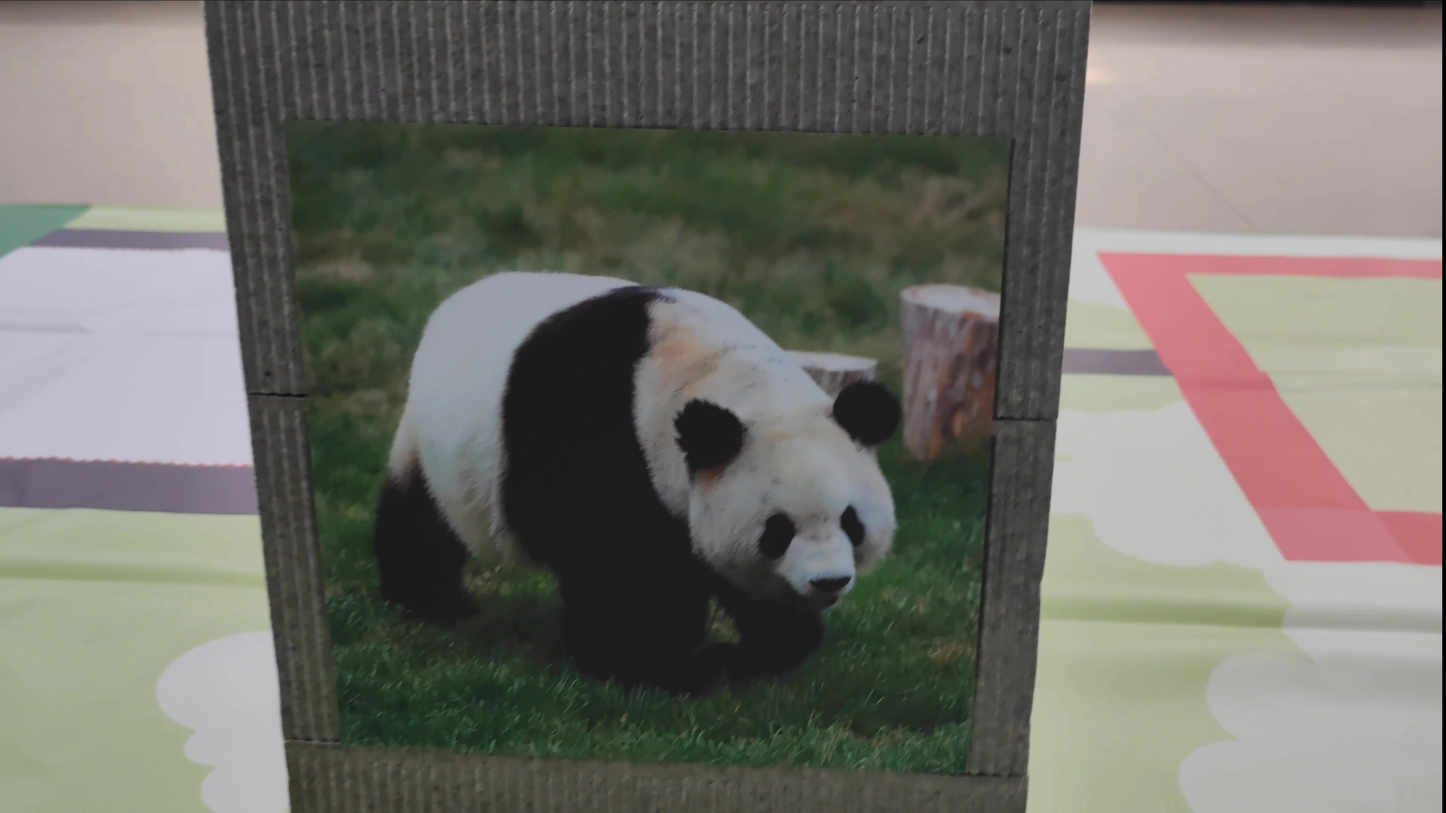panda: (344, 211, 940, 721)
